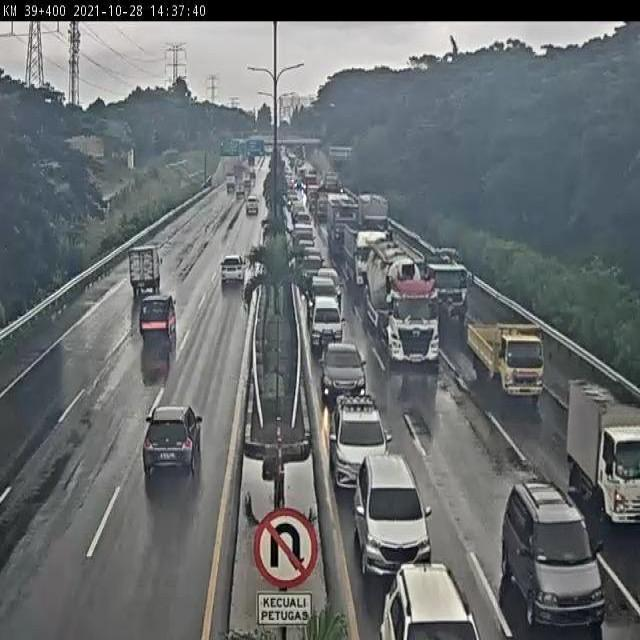big truck: (368, 252, 441, 364), (411, 238, 468, 306), (343, 227, 387, 285)
car: (497, 477, 611, 635), (376, 553, 477, 640), (123, 388, 216, 481), (351, 453, 433, 558), (328, 389, 397, 479), (315, 345, 371, 412), (136, 290, 189, 350), (306, 296, 343, 348), (216, 251, 249, 292), (308, 276, 337, 303), (312, 272, 345, 295), (239, 200, 265, 224), (296, 245, 325, 260)
small truck: (550, 364, 640, 516), (467, 314, 554, 394), (113, 254, 161, 302)
